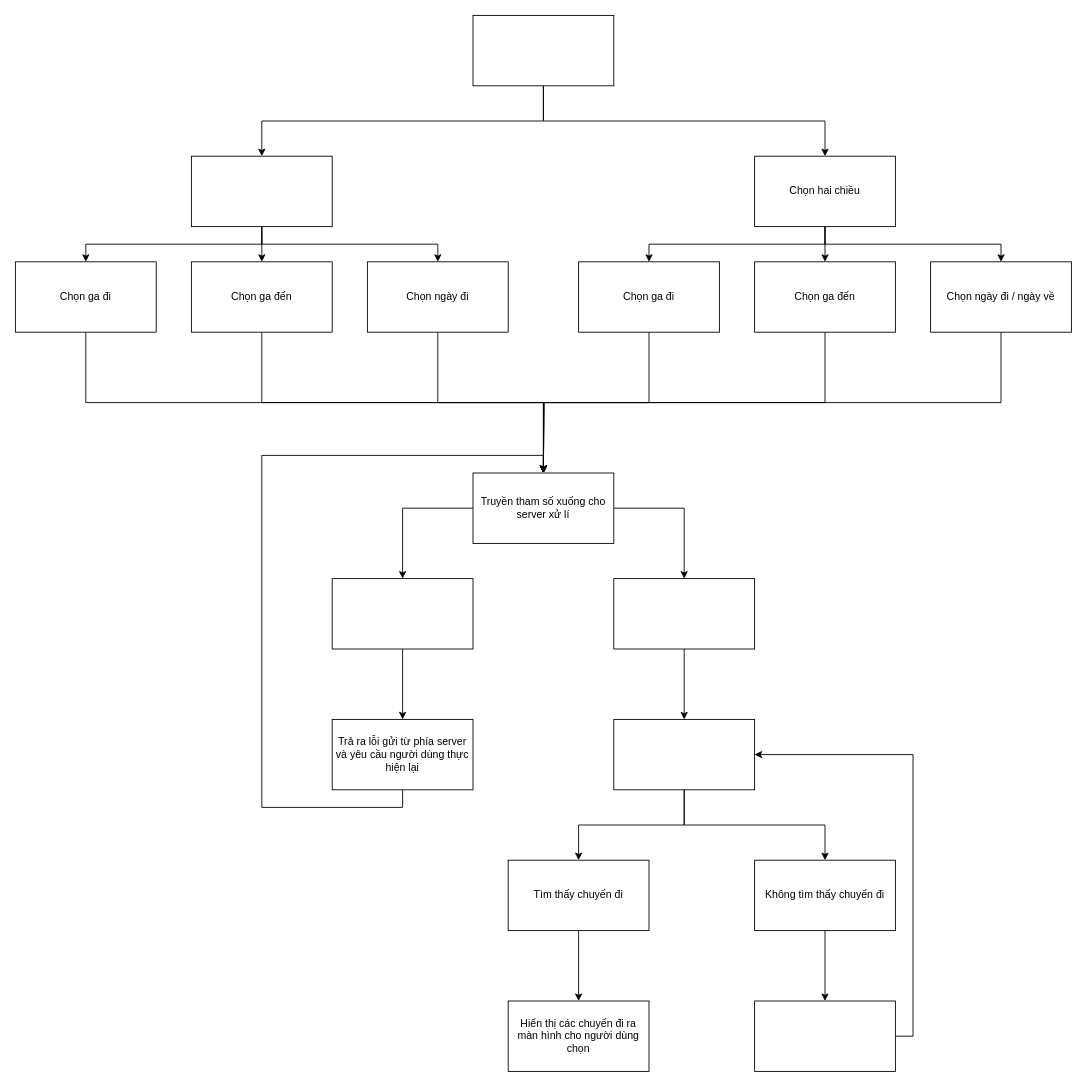
The diagram is 1087 pixels wide and 1087 high, and some of its shapes have lost their labels. Each missing label, with the box of its shape:
Chọn kiểu chuyến đi ( Một chiều / Hai chiều ): (472, 15, 614, 86)
Chọn một chiều: (191, 155, 332, 227)
Hiển thị thông báo ra màn hình và cho người dùng tìm lại ngay tại trang đó: (754, 1000, 895, 1071)
Nếu người dùng không truyền đủ: (331, 578, 473, 649)
Nếu người dùng truyền đủ: (613, 578, 755, 649)
Thực hiện chuyển trang và lưu tham số vào URL: (613, 719, 755, 790)
